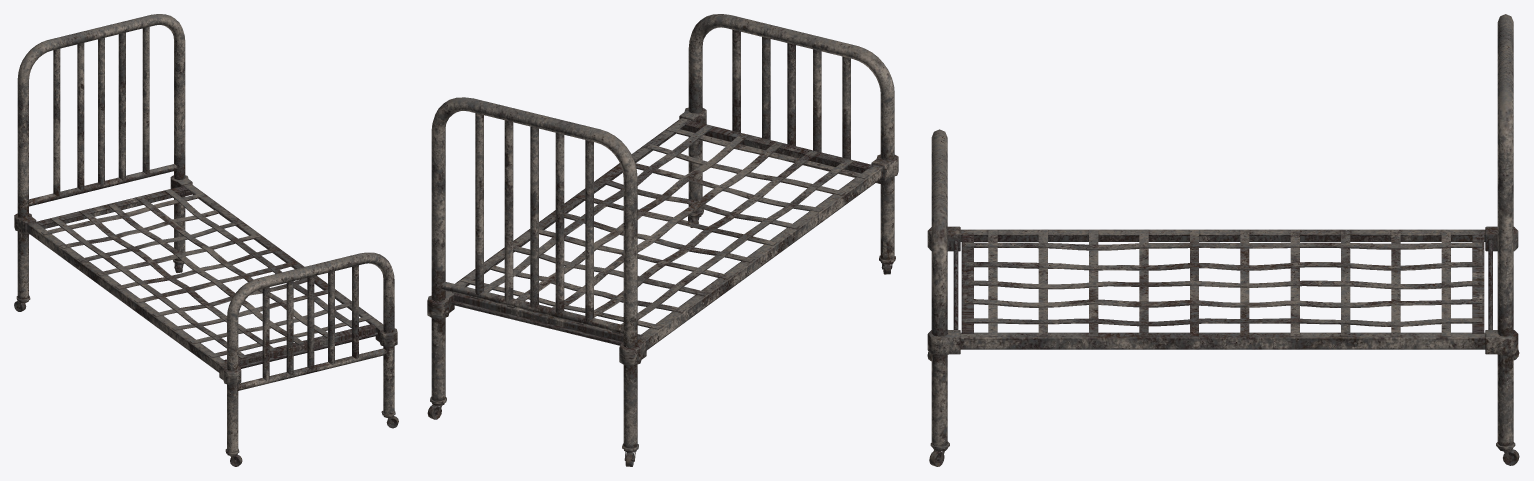
Rendered from bed_3.dae.
3 views of the same model, side by side, from view 1: azimuth 30°, elevation 25°; view 2: azimuth 150°, elevation 25°; view 3: azimuth 270°, elevation 25° (orthographic). The views are drawn at different scales.
Visible parts, largest first — view 1: bed_lp; view 2: bed_lp; view 3: bed_lp.
Part boxes in pixels (x1,y1,x2,y2): bed_lp: [14, 14, 398, 466]; bed_lp: [427, 14, 898, 466]; bed_lp: [927, 14, 1519, 466].
Size of the model in its own units: 1.06 by 2.34 by 1.57.
